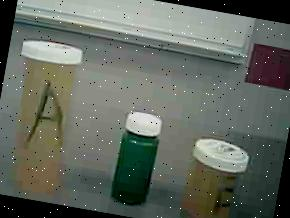Bottle A: (0, 33, 101, 203)
Bottle B: (172, 128, 253, 218)
Bottle C: (103, 103, 180, 218)
